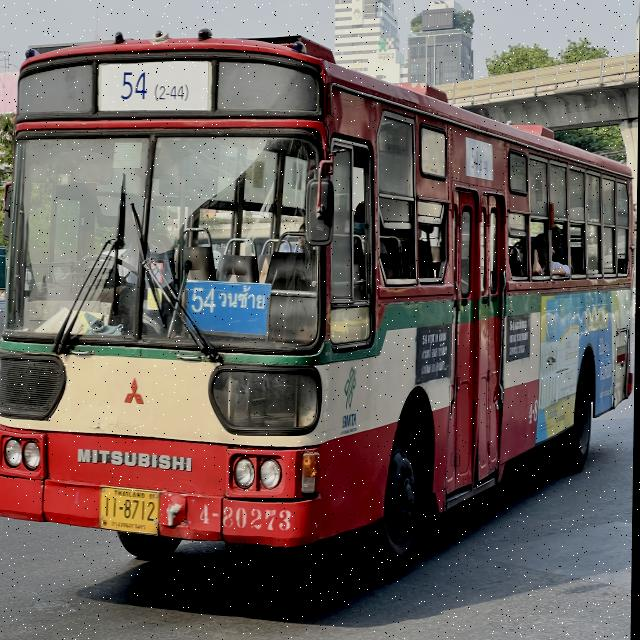BMTA-bus: (0, 32, 640, 582)
Bus-Line-Number: (99, 60, 211, 113)
Destination-Sign-Normal: (185, 272, 273, 342)
